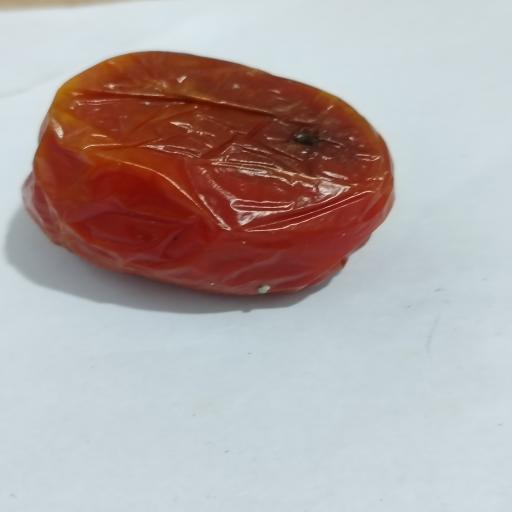spoiled: (25, 52, 392, 295)
